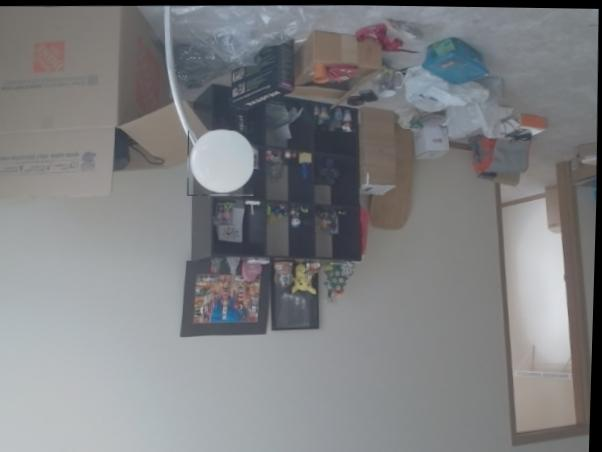Fan: (186, 128, 255, 195)
